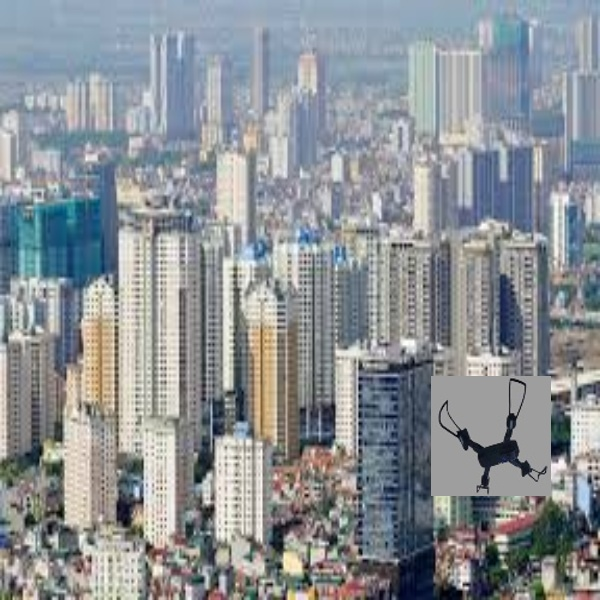drone: (438, 376, 556, 496)
